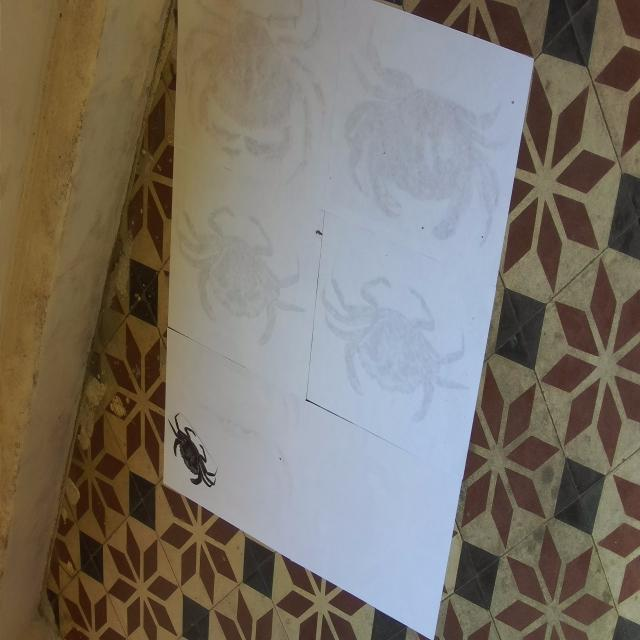European_Green_Crab: (160, 404, 221, 504)
